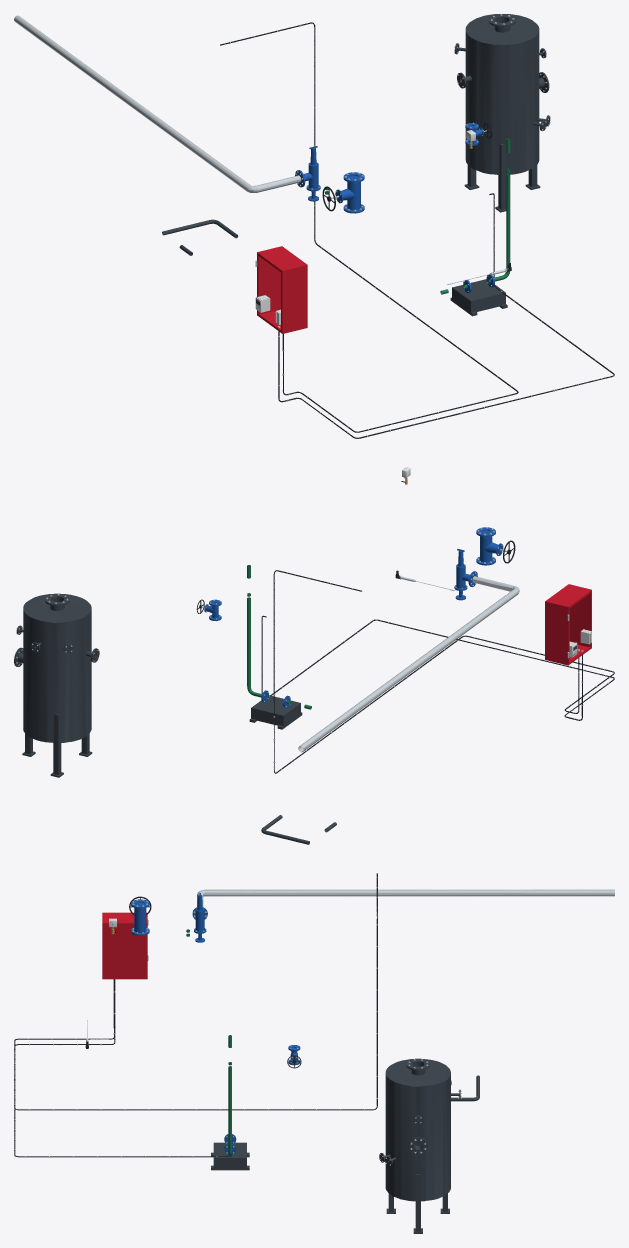
The picture shows the model from 3 angles, top to bottom: view 1: azimuth 30°, elevation 25°; view 2: azimuth 150°, elevation 25°; view 3: azimuth 270°, elevation 25°; orthographic projection. The views are drawn at different scales.
Parts seen in each view (by area): view 1: separator_bdv60_5 / dark, control_cabinet / control_cabinet_0.npz, safety_vent_1 / steel, mod_eco_drive_cable / black, pump_branch_1 / dark, wiring_pump_1 / black, steam_manual / blue, pump_branch_1 / green, safety_1 / blue; view 2: separator_bdv60_5 / dark, control_cabinet / control_cabinet_0.npz, safety_vent_1 / steel, mod_eco_drive_cable / black, pump_branch_1 / dark, wiring_pump_1 / black, steam_manual / blue, pump_branch_1 / green; view 3: separator_bdv60_5 / dark, safety_vent_1 / steel, control_cabinet / control_cabinet_0.npz, mod_eco_drive_cable / black, pump_branch_1 / dark, wiring_pump_1 / black, steam_manual / blue.
Part boxes in pixels (left/top/right/bottom): separator_bdv60_5 / dark: left=454, top=14, right=550, bottom=212; control_cabinet / control_cabinet_0.npz: left=255, top=246, right=307, bottom=333; safety_vent_1 / steel: left=14, top=15, right=301, bottom=192; mod_eco_drive_cable / black: left=220, top=22, right=518, bottom=432; pump_branch_1 / dark: left=450, top=279, right=507, bottom=316; wiring_pump_1 / black: left=278, top=193, right=614, bottom=438; steam_manual / blue: left=335, top=172, right=364, bottom=213; pump_branch_1 / green: left=440, top=138, right=510, bottom=294; safety_1 / blue: left=295, top=146, right=320, bottom=191; separator_bdv60_5 / dark: left=14, top=593, right=99, bottom=777; control_cabinet / control_cabinet_0.npz: left=545, top=584, right=591, bottom=665; safety_vent_1 / steel: left=298, top=576, right=519, bottom=752; mod_eco_drive_cable / black: left=273, top=570, right=614, bottom=773; pump_branch_1 / dark: left=249, top=695, right=302, bottom=729; wiring_pump_1 / black: left=261, top=615, right=614, bottom=720; steam_manual / blue: left=476, top=527, right=503, bottom=565; pump_branch_1 / green: left=247, top=565, right=311, bottom=709; separator_bdv60_5 / dark: left=379, top=1058, right=460, bottom=1233; safety_vent_1 / steel: left=197, top=889, right=614, bottom=906; control_cabinet / control_cabinet_0.npz: left=102, top=912, right=148, bottom=979; mod_eco_drive_cable / black: left=14, top=873, right=377, bottom=1110; pump_branch_1 / dark: left=211, top=1142, right=249, bottom=1170; wiring_pump_1 / black: left=14, top=979, right=228, bottom=1157; steam_manual / blue: left=131, top=899, right=149, bottom=935.
Bounding box in the file's own units: 5.31 × 2.76 × 7.03.
